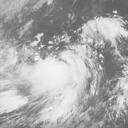cyclone: (20, 51, 89, 103)
